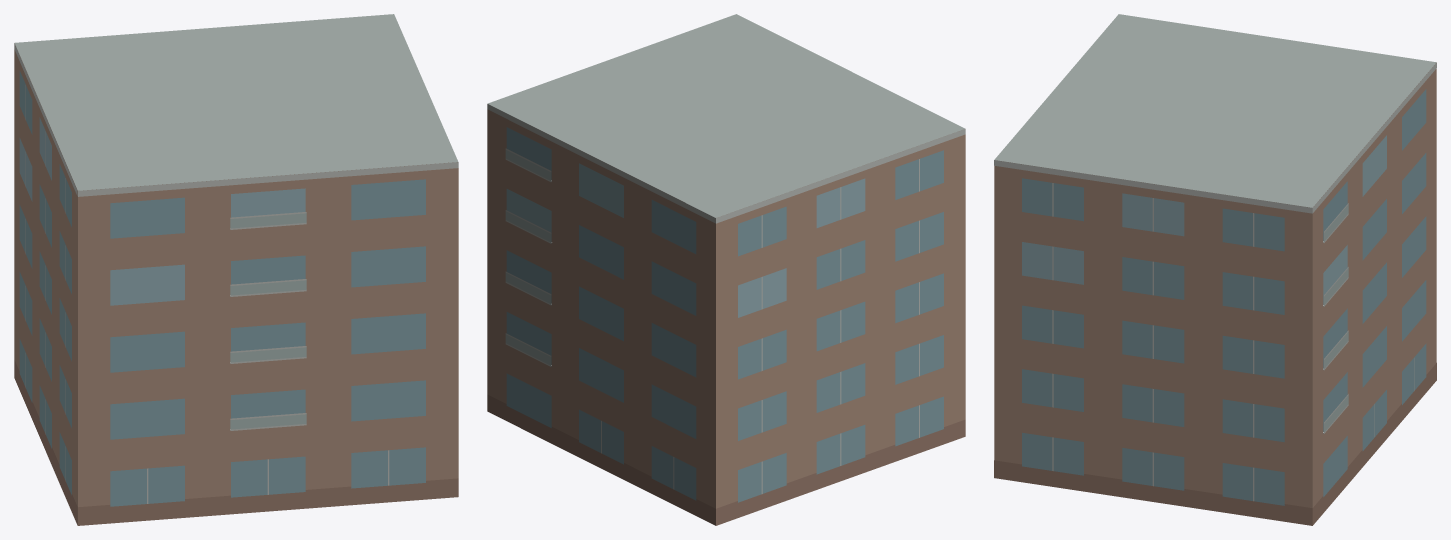
File: survey-upis-32935699.glb
3 views of the same model, side by side, from view 1: azimuth 30°, elevation 25°; view 2: azimuth 150°, elevation 25°; view 3: azimuth 270°, elevation 25° (orthographic). The views are drawn at different scales.
Parts seen in each view (by area): view 1: survey-upis-32935699.tmp; view 2: survey-upis-32935699.tmp; view 3: survey-upis-32935699.tmp.
Boxes of the visible parts, bbox=[...] form: survey-upis-32935699.tmp: bbox=[14, 14, 458, 525]; survey-upis-32935699.tmp: bbox=[487, 14, 965, 525]; survey-upis-32935699.tmp: bbox=[994, 14, 1436, 525].
Size of the model in its own units: 17.52 by 13.4 by 16.91.
